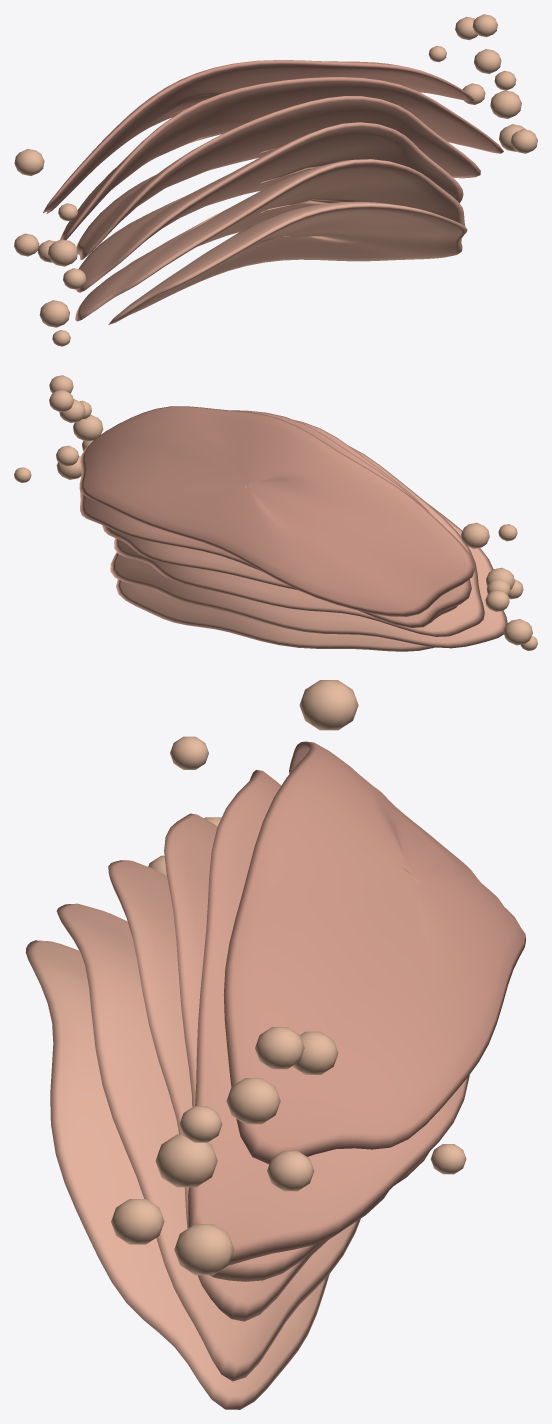
File: golgi.glb
3 views of the same model, one above another, from view 1: azimuth 30°, elevation 25°; view 2: azimuth 150°, elevation 25°; view 3: azimuth 270°, elevation 25° (orthographic). The views are drawn at different scales.
Parts seen in each view (by area): view 1: Golgi-closed-cisternae, Golgi-budding-and-transport-vesicles; view 2: Golgi-closed-cisternae, Golgi-budding-and-transport-vesicles; view 3: Golgi-closed-cisternae, Golgi-budding-and-transport-vesicles.
Boxes of the visible parts, x1,y1,x2,y2 form: Golgi-closed-cisternae: (43,60,503,324); Golgi-budding-and-transport-vesicles: (14,14,537,346); Golgi-closed-cisternae: (79,406,507,651); Golgi-budding-and-transport-vesicles: (14,375,537,650); Golgi-closed-cisternae: (25,741,526,1409); Golgi-budding-and-transport-vesicles: (111,680,466,1275).
Bounding box in the file's own units: 8.17 × 3.72 × 3.76.
